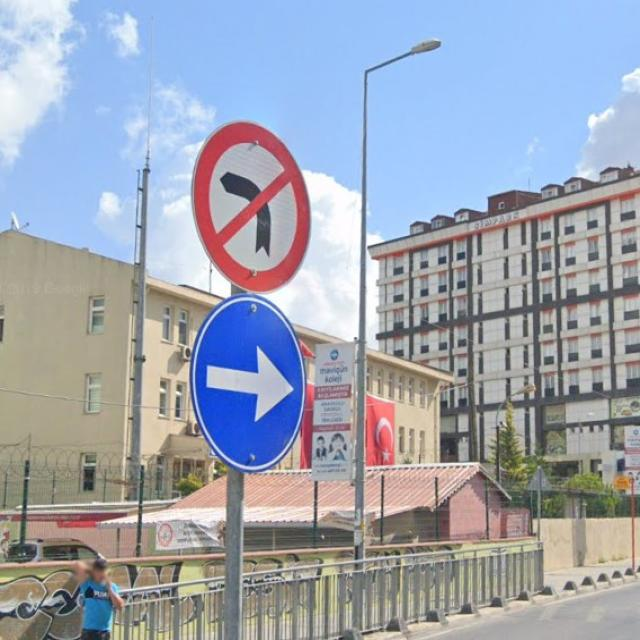sag: (187, 295, 304, 473)
soladonulmez: (192, 123, 311, 295)
